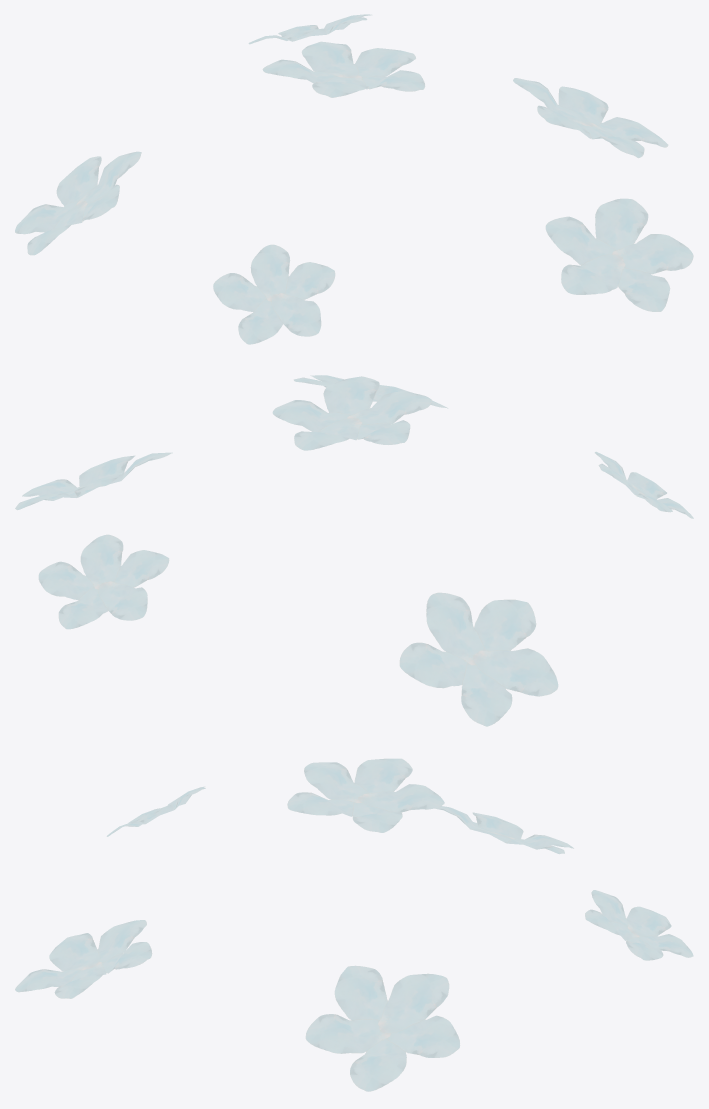
Rendered from Flowers_01.fbx.
3 renders of one model, top to bottom at view 1: azimuth 30°, elevation 25°; view 2: azimuth 150°, elevation 25°; view 3: azimuth 270°, elevation 25°, orthographic. The views are drawn at different scales.
Visible parts, largest first — view 1: Flowers_01; view 2: Flowers_01; view 3: Flowers_01.
Part boxes in pixels (x1,y1,x2,y2): Flowers_01: [15, 14, 693, 344]; Flowers_01: [15, 375, 693, 726]; Flowers_01: [15, 758, 693, 1091].
Size of the model in its own units: 27.35 by 8.45 by 28.73.
